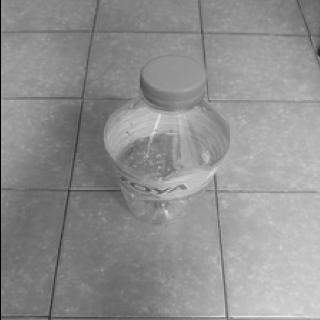plastic_bottles: (94, 42, 224, 234)
